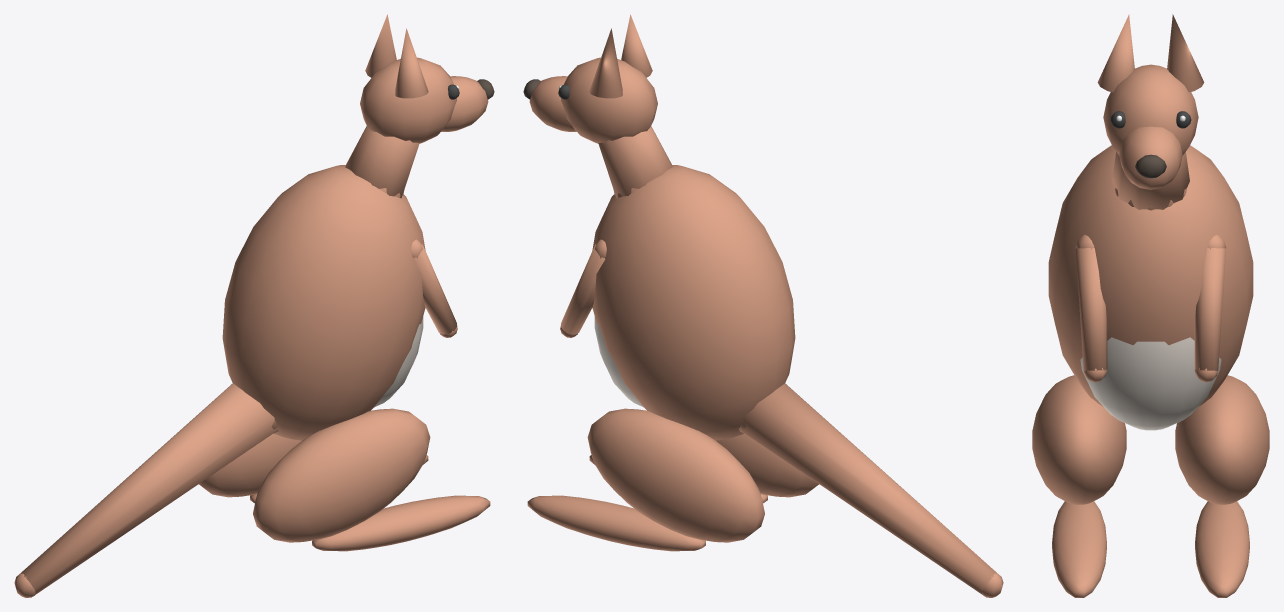
The model's file is red-kangaroo.glb.
3 views of the same model, side by side, from view 1: azimuth 30°, elevation 25°; view 2: azimuth 150°, elevation 25°; view 3: azimuth 270°, elevation 25° (orthographic). The views are drawn at different scales.
Visible parts, largest first — view 1: e, cone; view 2: e, cone; view 3: e, cone.
Part boxes in pixels (x1,y1,x2,y2): e: [14, 126, 490, 597]; cone: [360, 14, 494, 143]; e: [527, 126, 1003, 597]; cone: [523, 14, 657, 143]; e: [1032, 145, 1269, 597]; cone: [1097, 14, 1204, 189].
Size of the model in its own units: 1.6 by 1.57 by 0.5976.
